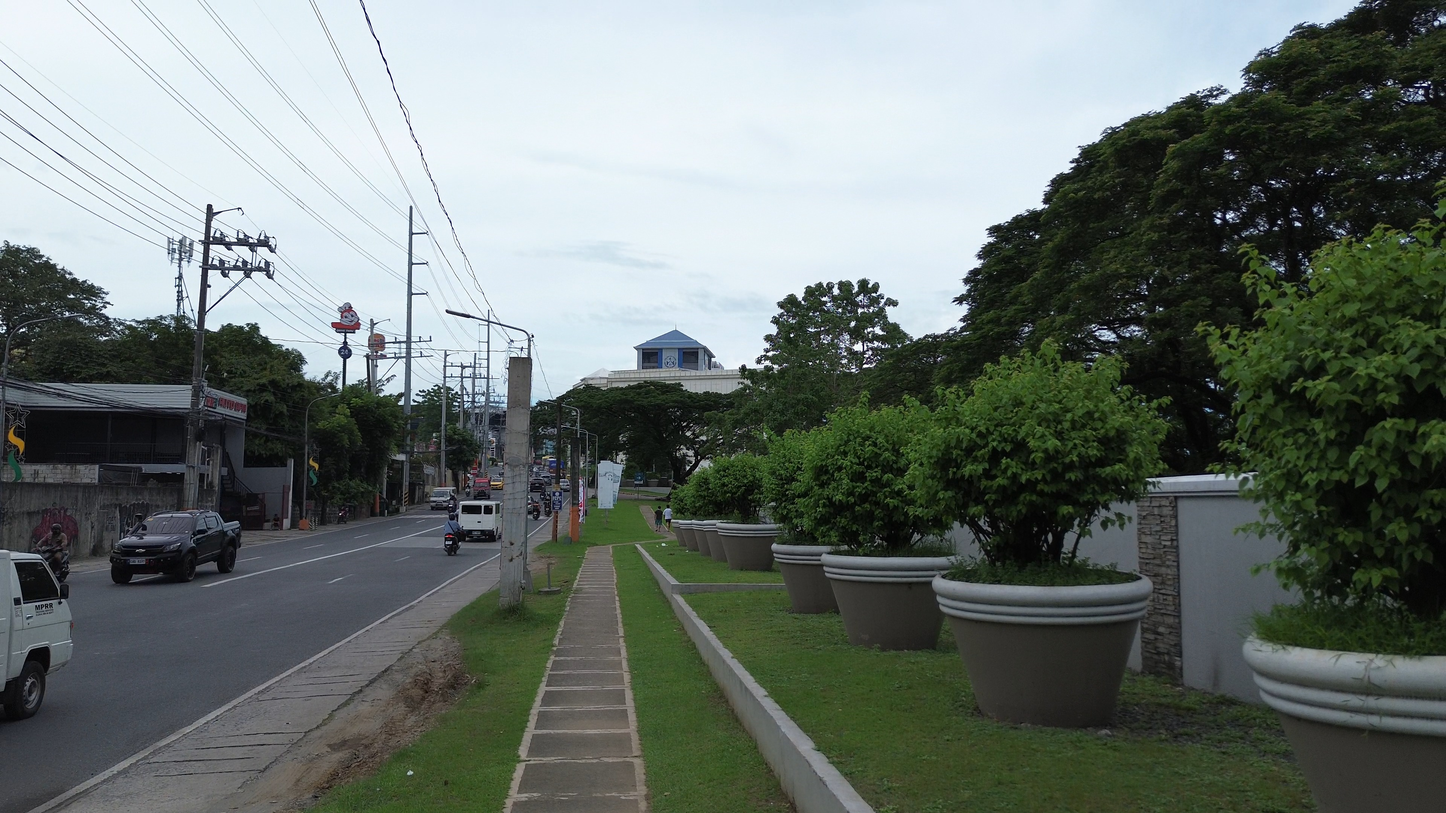motorcycle: (444, 532, 460, 555)
vehicle: (0, 550, 73, 719), (110, 510, 241, 583), (458, 500, 501, 541), (430, 487, 456, 510), (528, 496, 542, 518), (529, 477, 547, 493), (490, 477, 503, 491), (558, 478, 570, 492)
